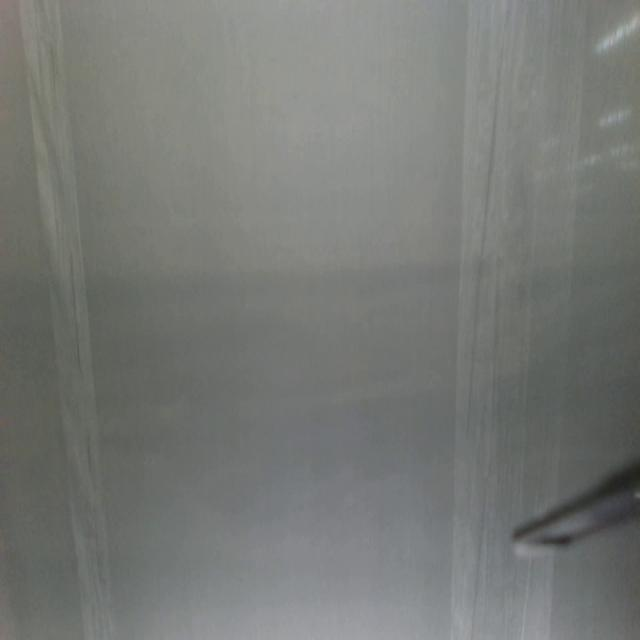crease: (452, 0, 588, 495), (19, 1, 116, 636)
